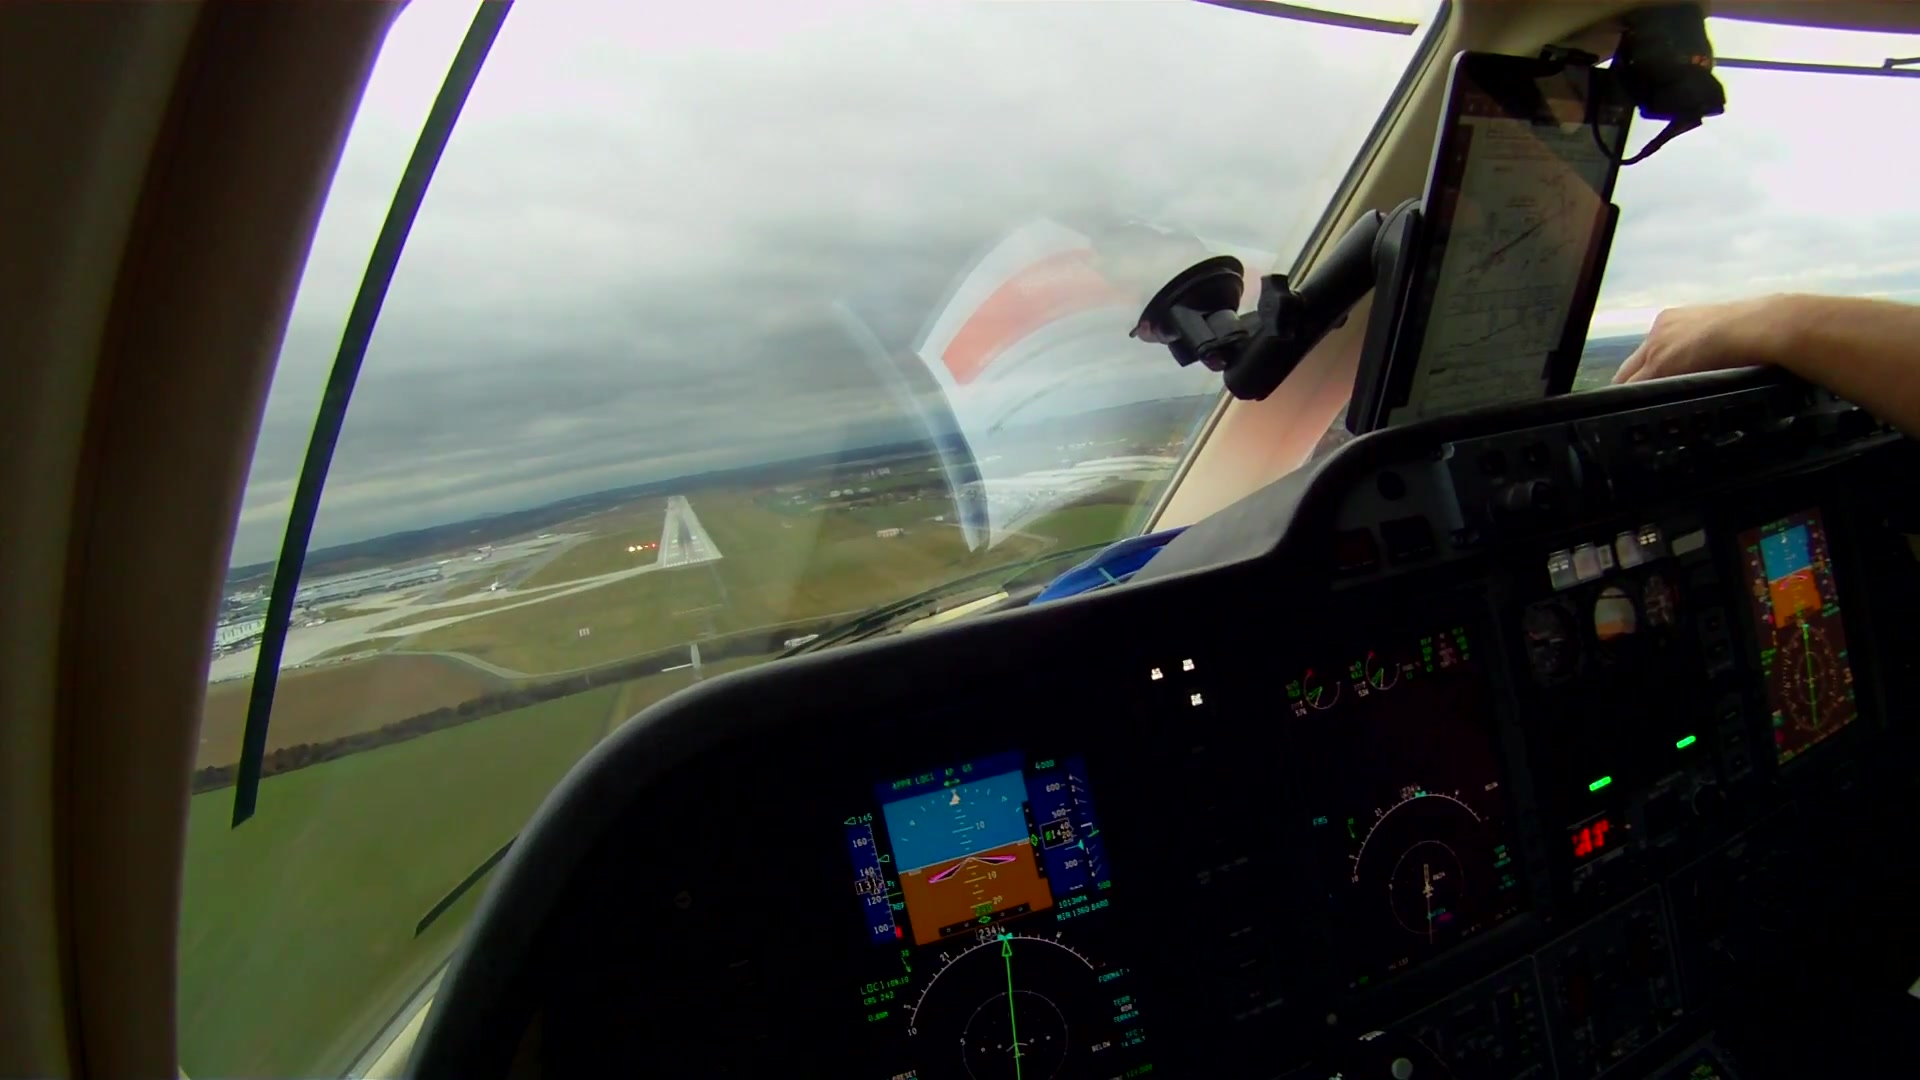runway: (653, 495, 723, 567)
